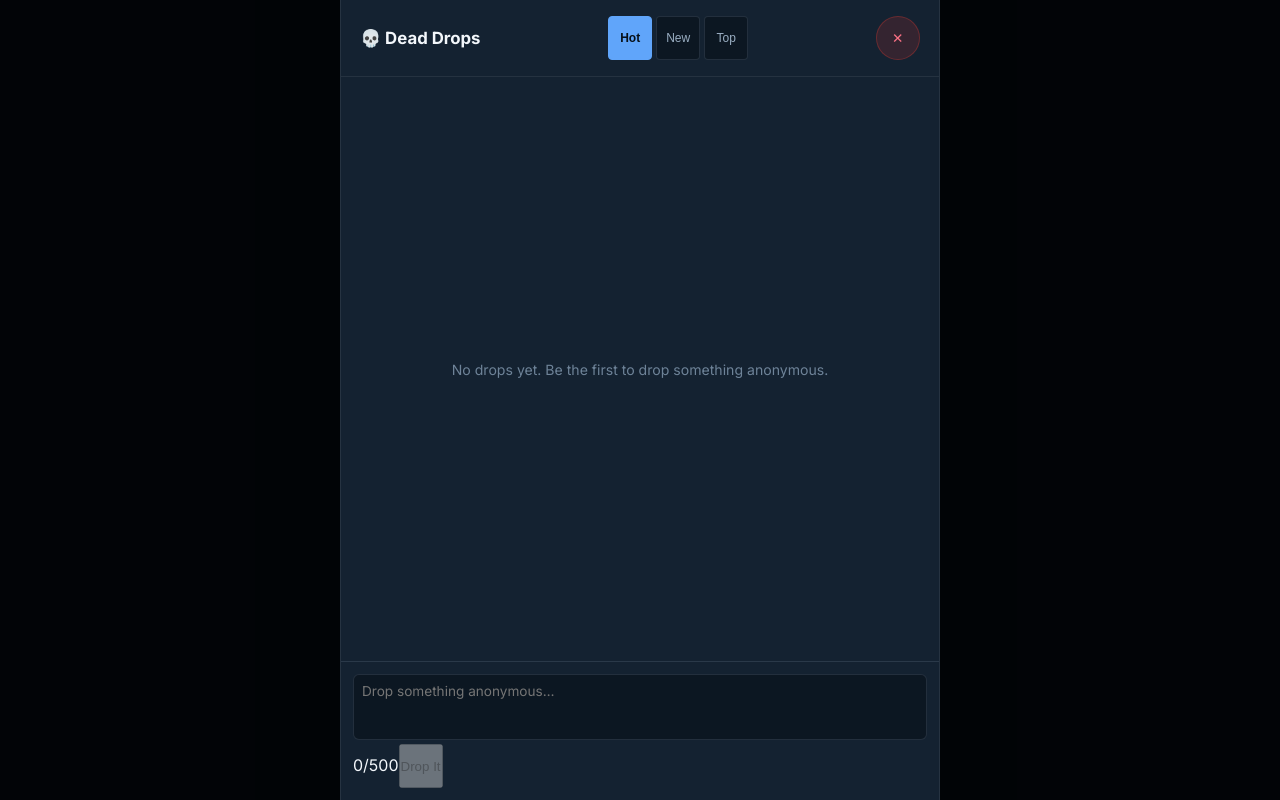
Test: DeadDropsPanel › createPost error handling › shows error message when createPost fails
This screenshot has width=1280, height=800.
Type "test message" into the text box with placeholder "Drop something anonymous…".
click(640, 707); type("test message")  # box [353, 674, 927, 740]
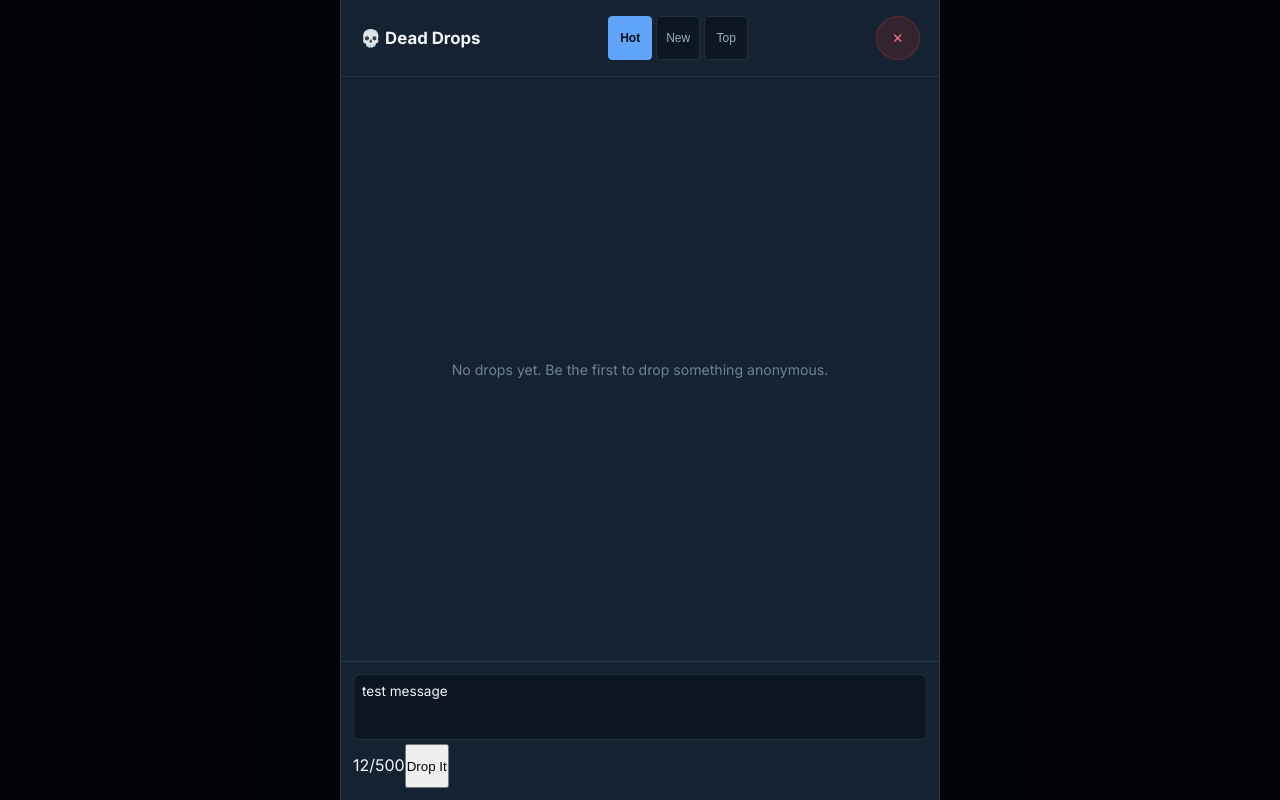
Click the button "Drop It".
click(427, 766)  # box [405, 744, 449, 788]
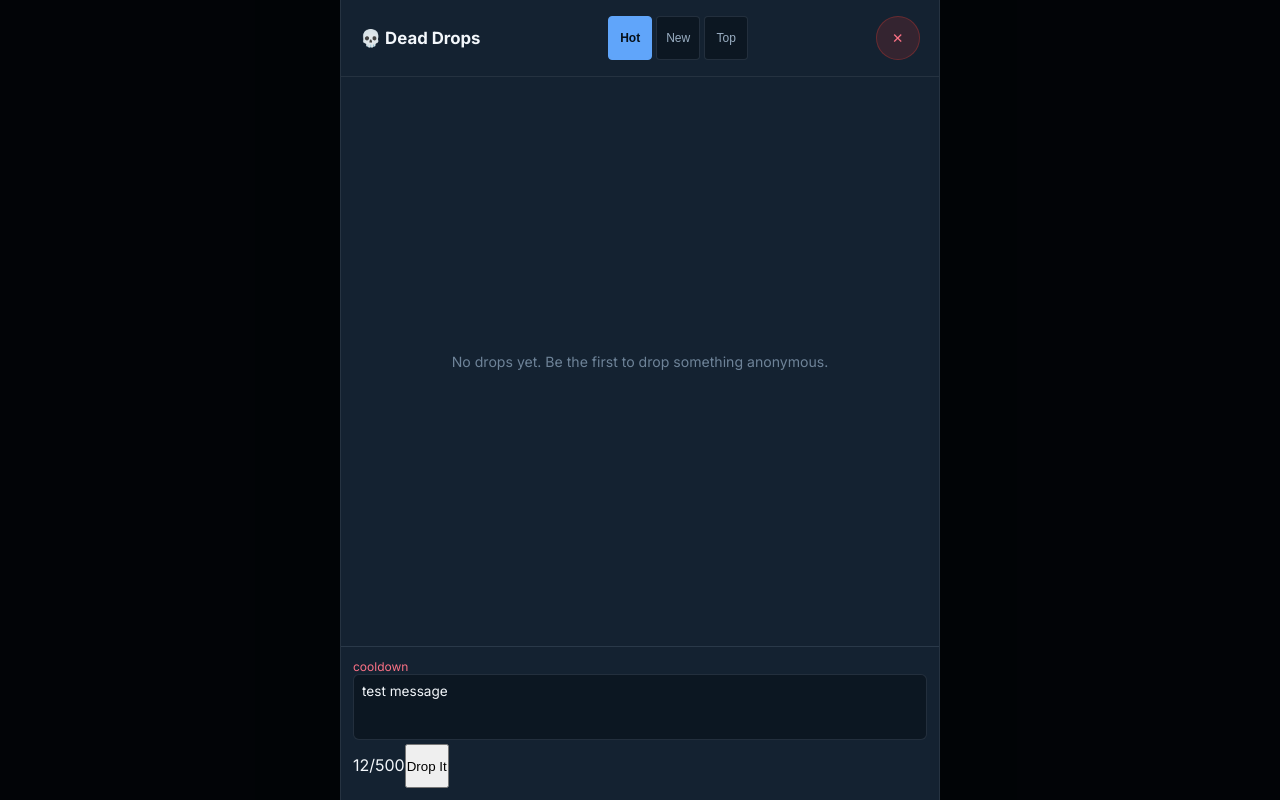
Result: the text "cooldown" is shown at [353, 659, 408, 674]
